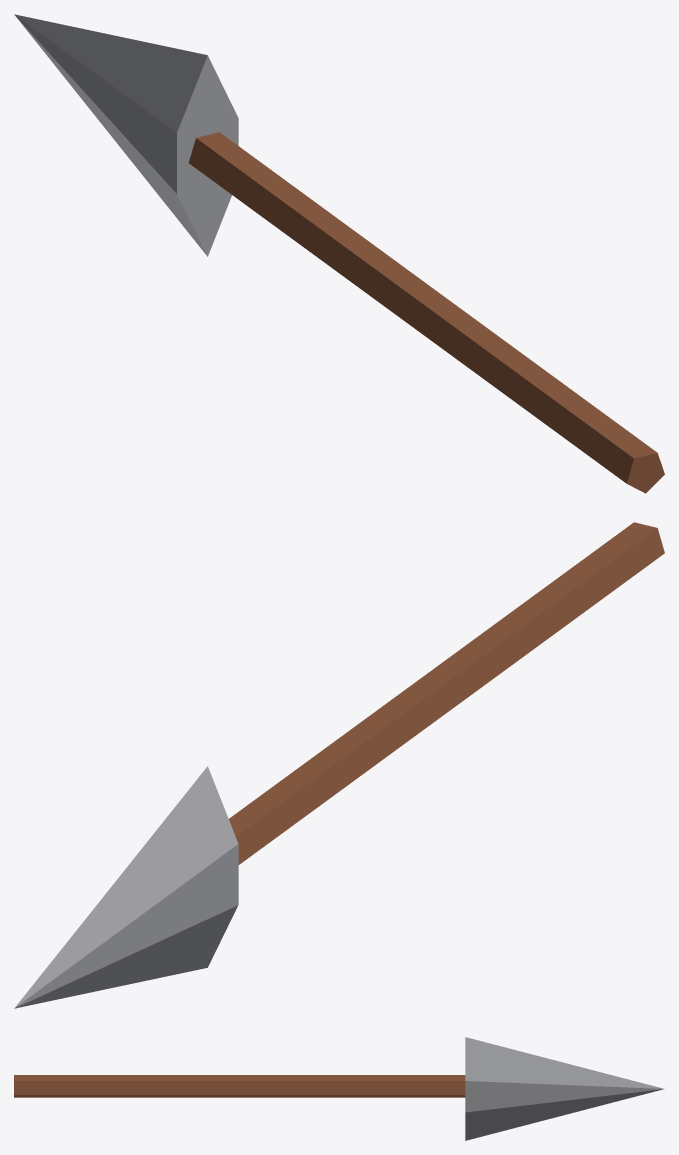
Rendered from Arrow_corrected.fbx.
3 renders of one model, top to bottom at view 1: azimuth 30°, elevation 25°; view 2: azimuth 150°, elevation 25°; view 3: azimuth 270°, elevation 25°, orthographic. The views are drawn at different scales.
Parts seen in each view (by area): view 1: Cone; view 2: Cone; view 3: Cone.
Part boxes in pixels (x1,y1,x2,y2): Cone: (14,14,664,493); Cone: (14,522,664,1008); Cone: (14,1037,663,1140).
Size of the model in its own units: 36.11 by 643 by 113.
